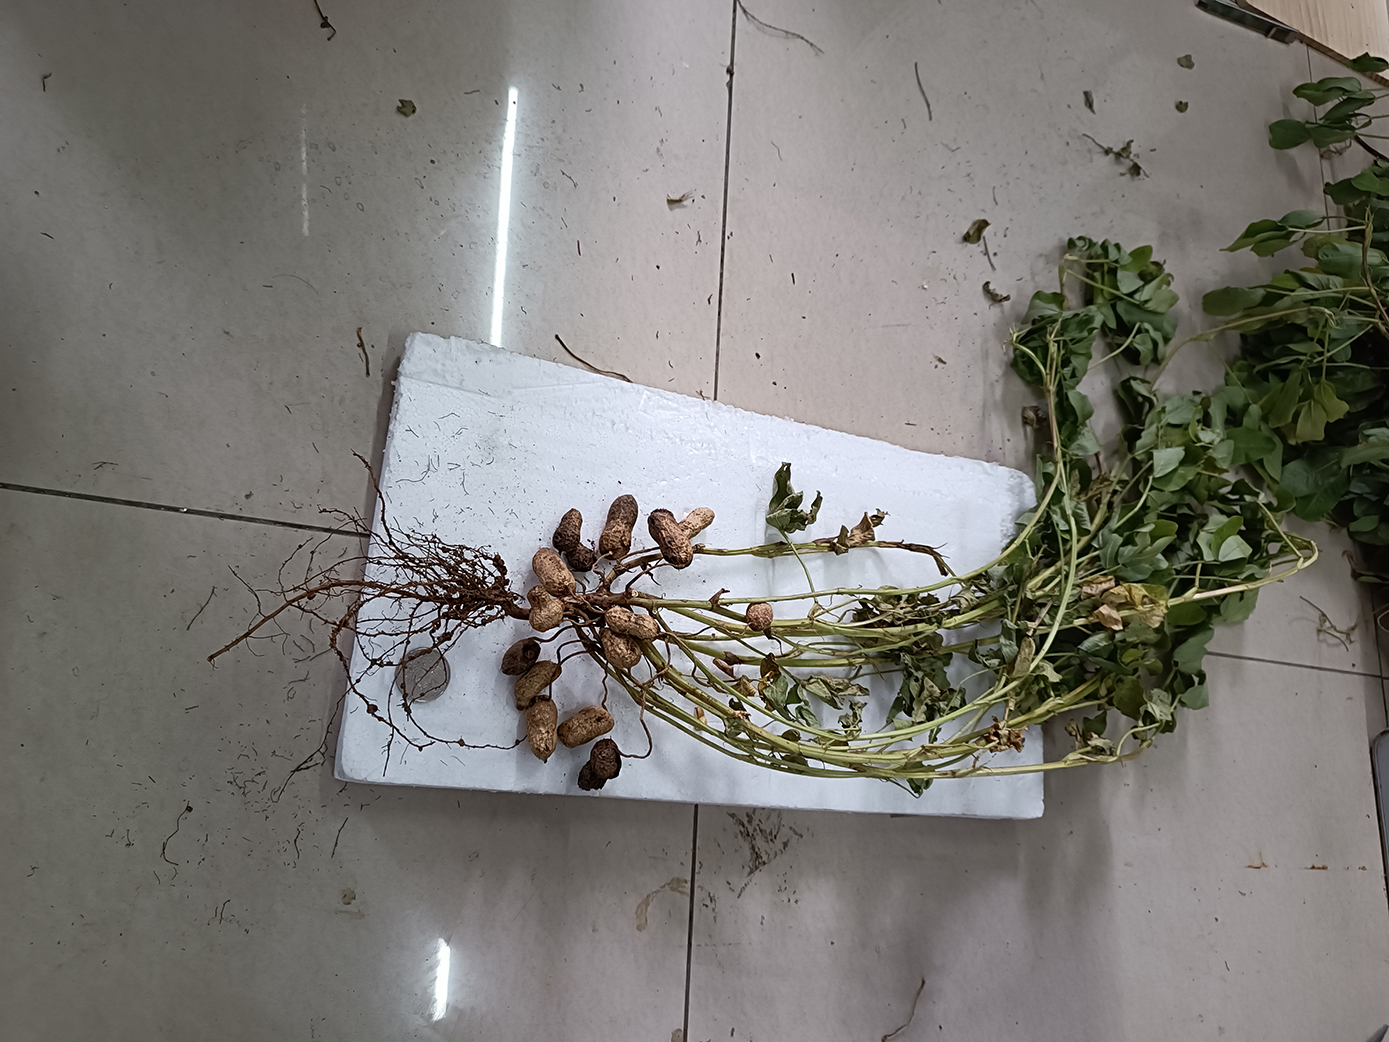h: (516, 662, 563, 709), (532, 548, 576, 599), (526, 696, 559, 762), (560, 706, 616, 744), (605, 606, 659, 642), (601, 627, 640, 669), (526, 587, 563, 632), (681, 506, 714, 537), (745, 602, 773, 632)
l: (599, 494, 638, 561), (646, 508, 691, 565), (578, 738, 624, 790), (500, 638, 541, 676), (553, 507, 581, 549), (569, 544, 595, 570)
